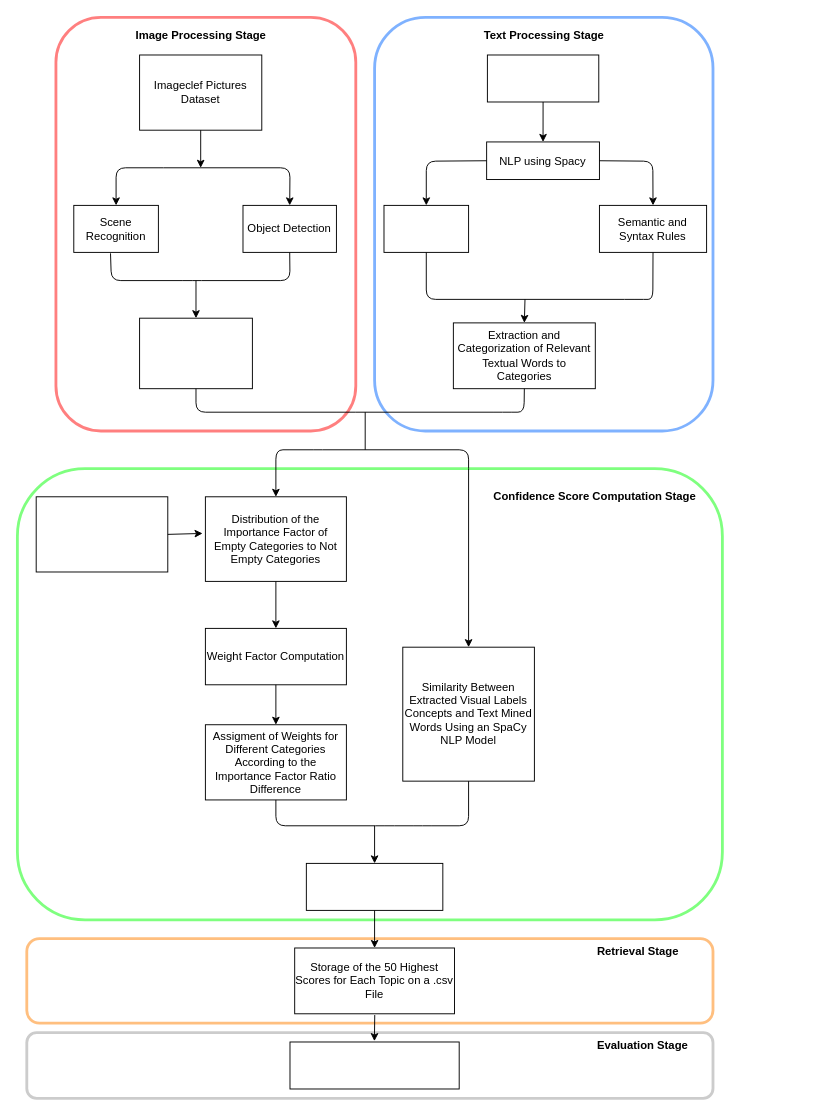
Image size: 838x1116. Some labels were removed from this diagram. Each missing label, with the centre of its shape:
"Computation of the Confidence Score" goes at point (374, 886).
"Extraction of Visual Labels And Assignment to Corresponding Categories" goes at point (195, 353).
"F1@measure Results Calculation" goes at point (374, 1065).
"Imageclef test topics" goes at point (542, 78).
"Linguistic annotations" goes at point (426, 228).
"Pre-Definement of the Importance factor for Each Category" goes at point (101, 534).
